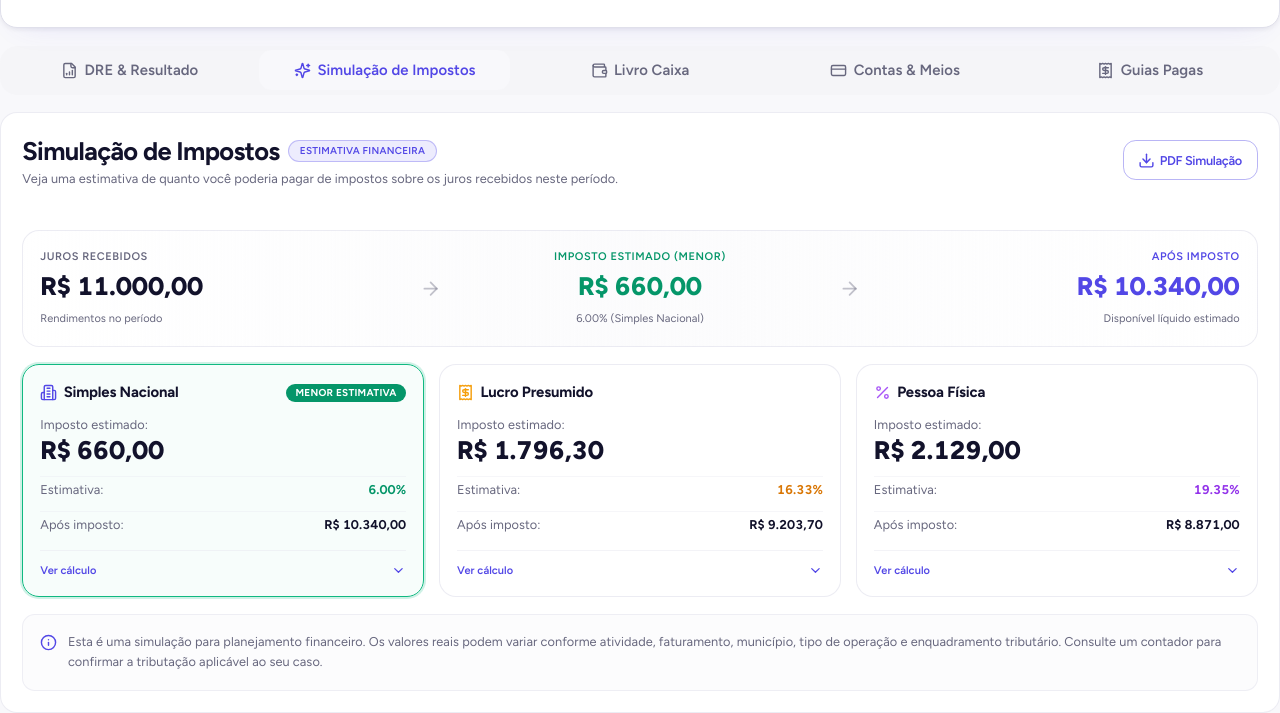
AccountantReport — Livro Caixa e Normalização de Datas › renderiza a aba Simulação de Impostos com os 3 cenários simplificados, selo MENOR ESTIMATIVA e aviso de planejamento
The width and height of the screenshot is (1280, 713).
(page scrolled)
Expected: the text "Veja uma estimativa de quanto você poderia pagar de impostos sobre os juros recebidos neste período." is shown, left=22, top=171, right=618, bottom=186
Expected: the heading "Simples Nacional" is shown, left=40, top=382, right=178, bottom=404
Clicar em Ver cálculo do primeiro card
Click the button "Ver cálculo" below "MENOR ESTIMATIVA". click: coordinates (68, 570)
box: left=40, top=562, right=406, bottom=579
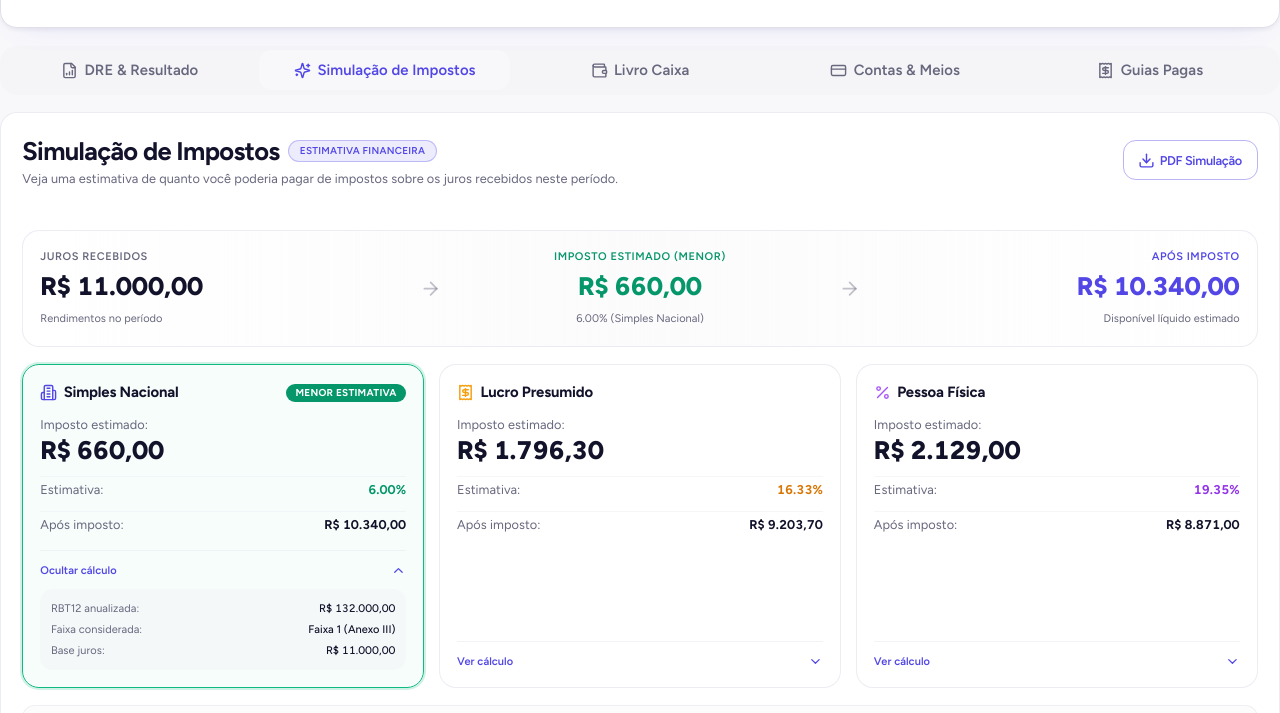
Expected: the text "Ocultar cálculo" is shown, left=40, top=562, right=117, bottom=579
